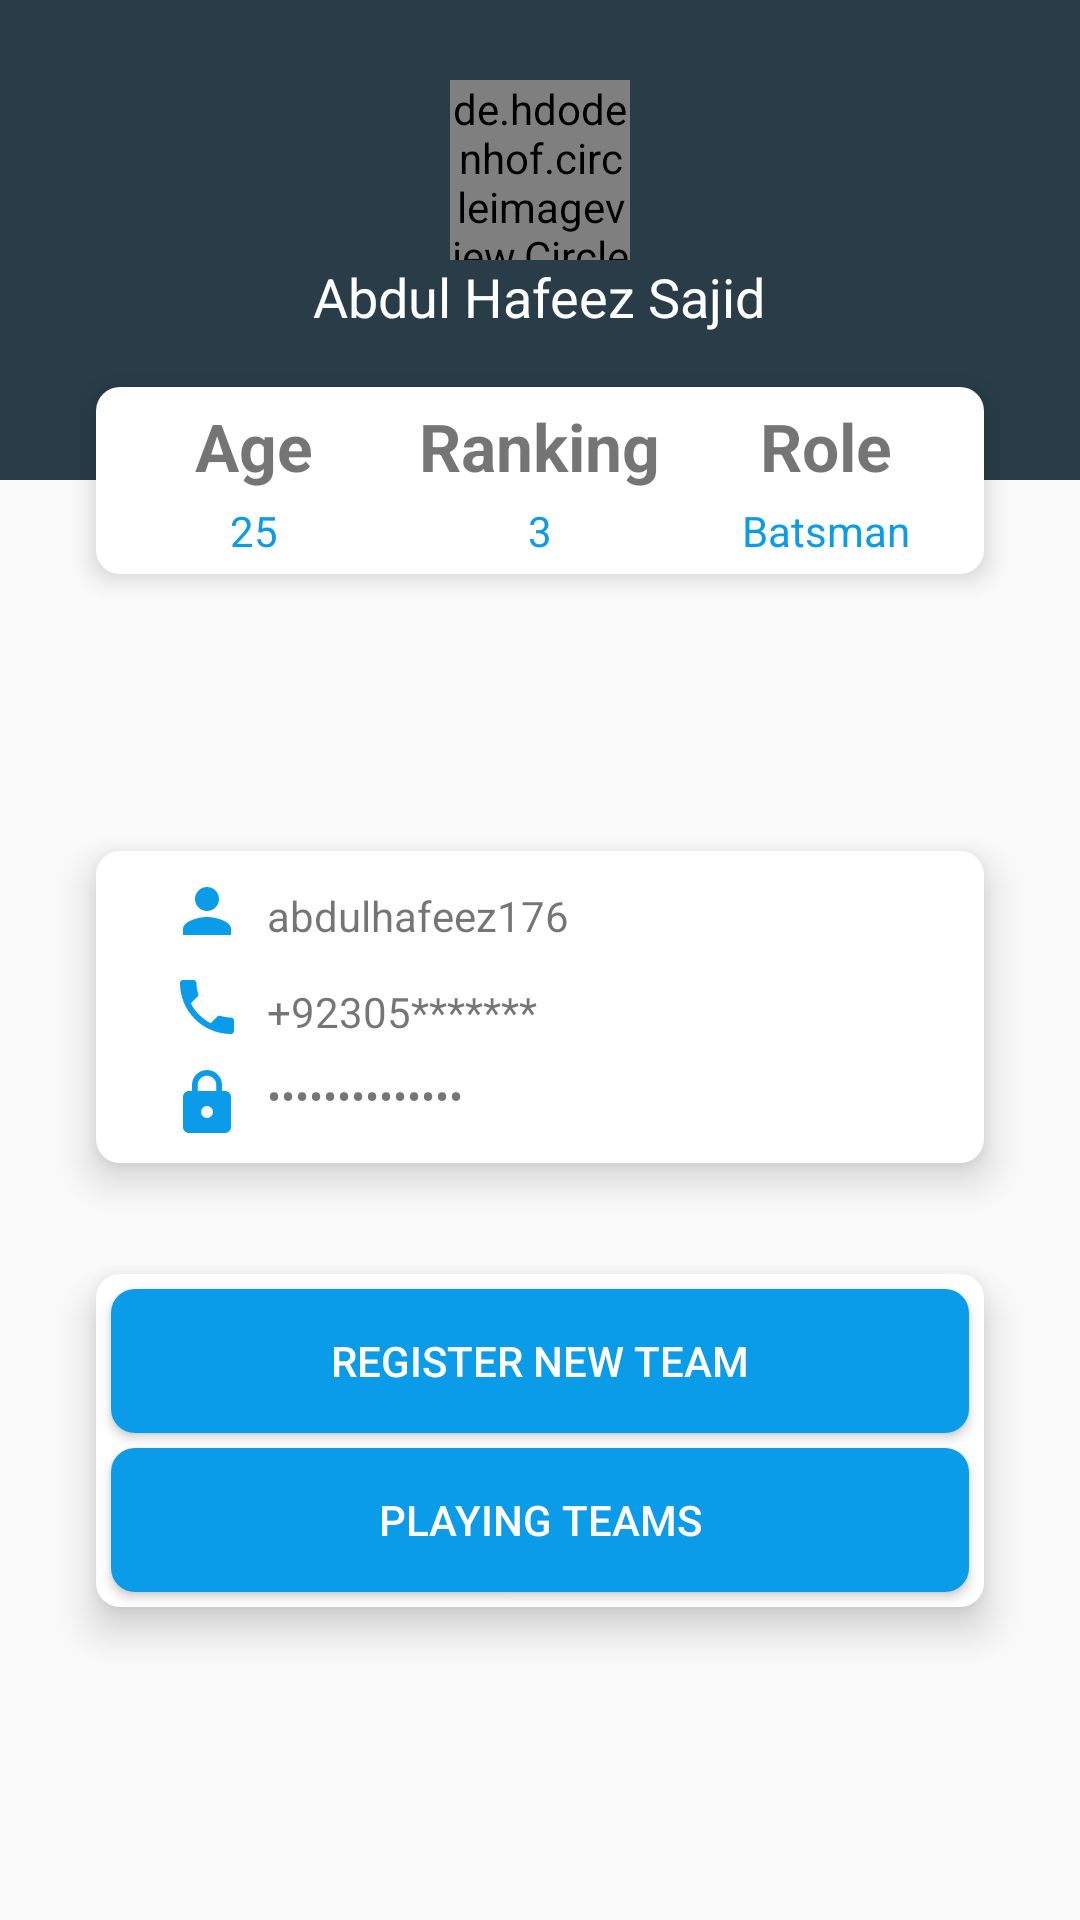

Point at icon controls on the screen. Image size 1080px x 1920px, points as (x,y).
call: (207,1007)
lock blackcol: (207,1101)
person blackcol: (207,911)
